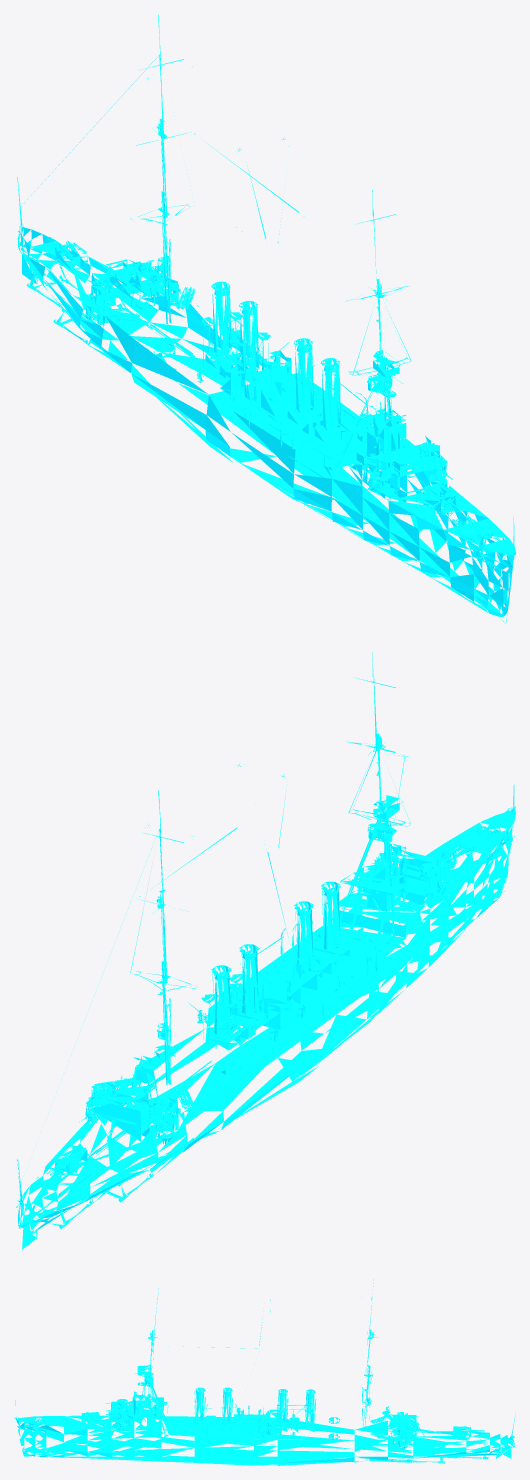
The model's file is Marblehead_Asus.glb.
3 renders of one model, top to bottom at view 1: azimuth 30°, elevation 25°; view 2: azimuth 150°, elevation 25°; view 3: azimuth 270°, elevation 25°, orthographic. The views are drawn at different scales.
Bounding box in the file's own units: 1.36 × 4.52 × 11.35.
